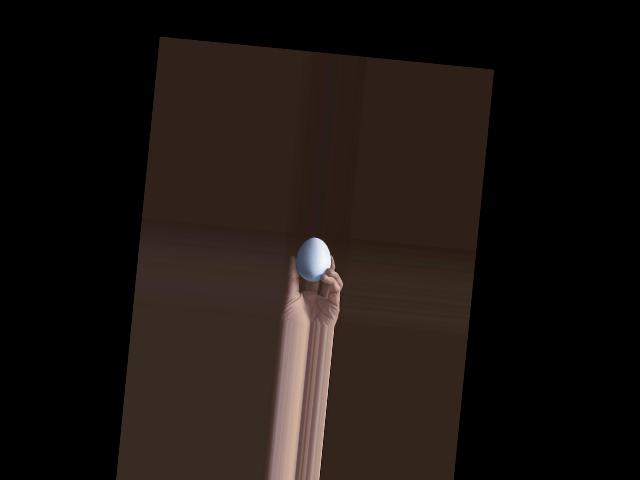egg: (294, 235, 334, 282)
